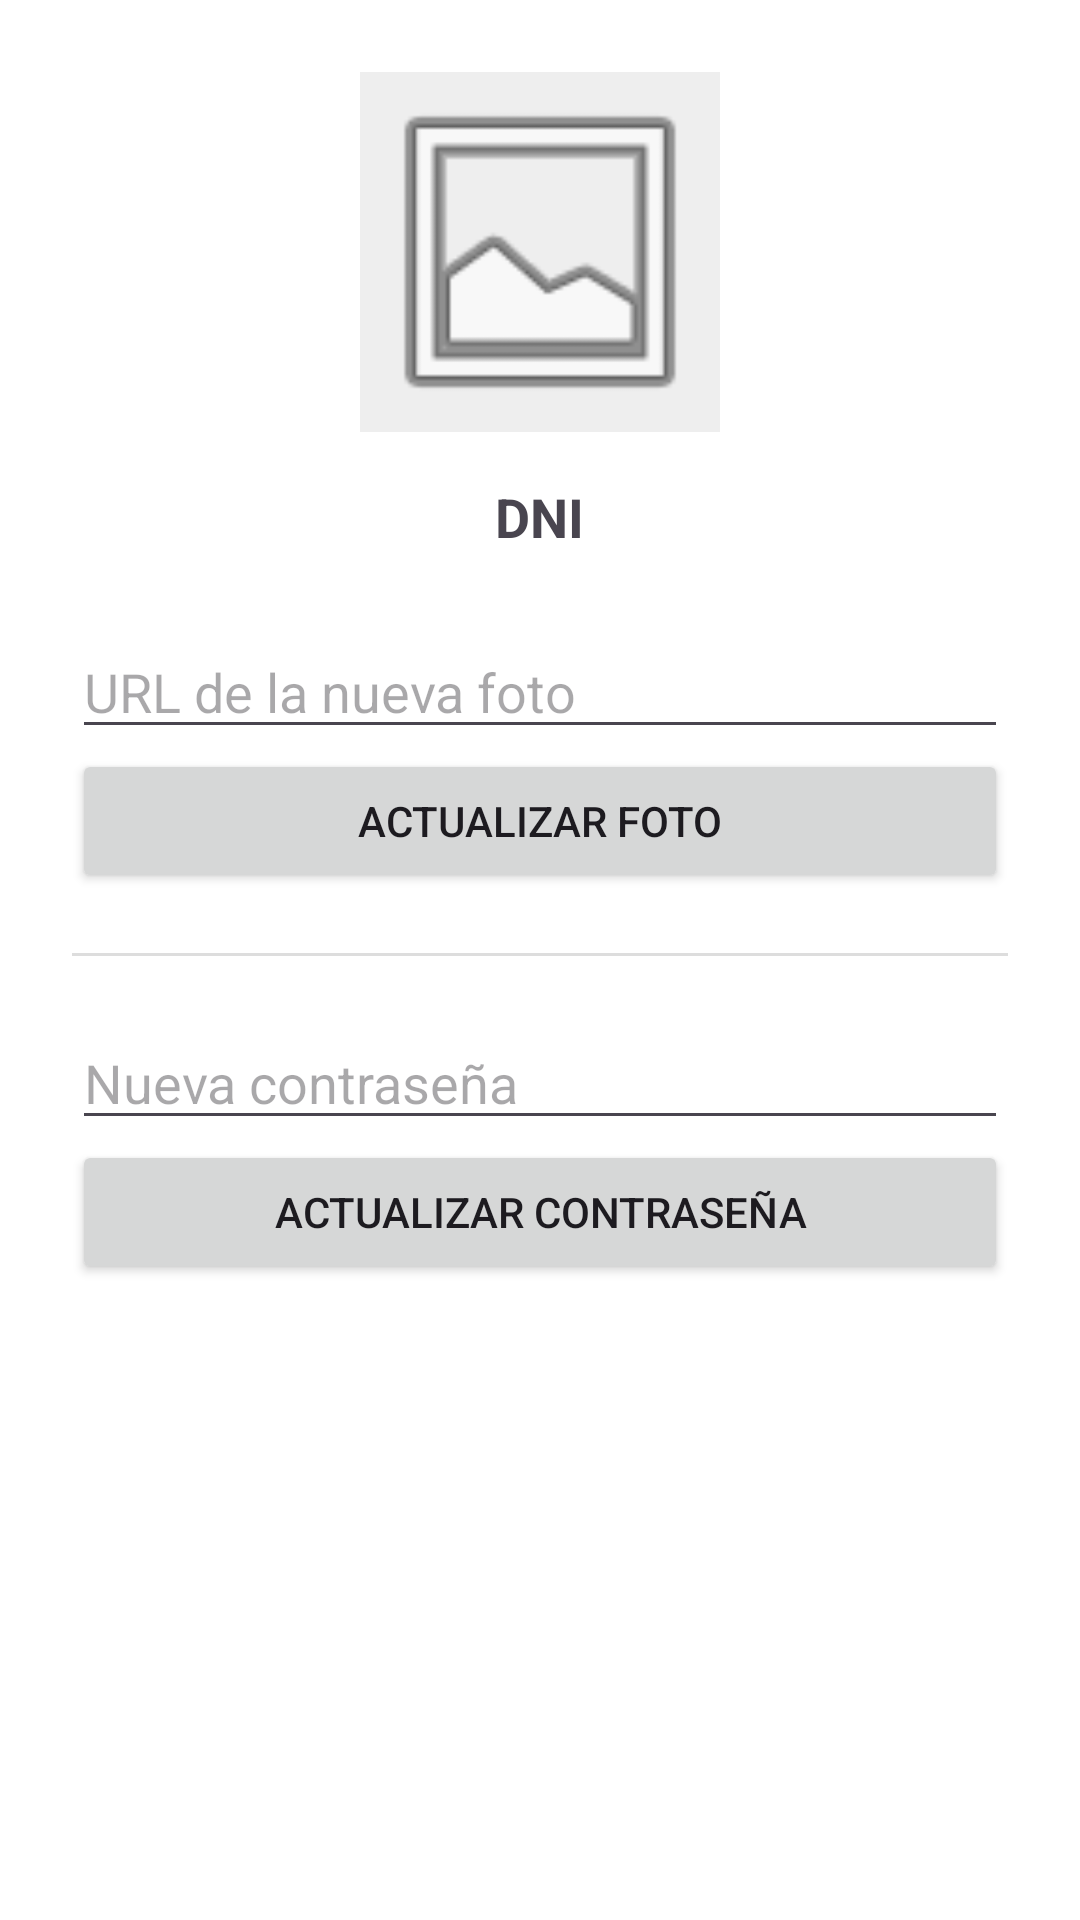

Locate icon controls on the screen. Image size 1080*1920, boxes as (x1, y1, x2, y2).
gallery: (360, 72, 720, 432)
